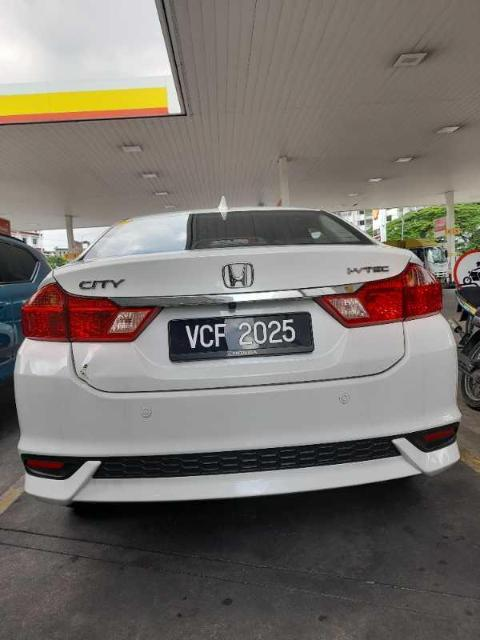License_Plate: (167, 312, 315, 363)
car: (13, 200, 463, 508)
